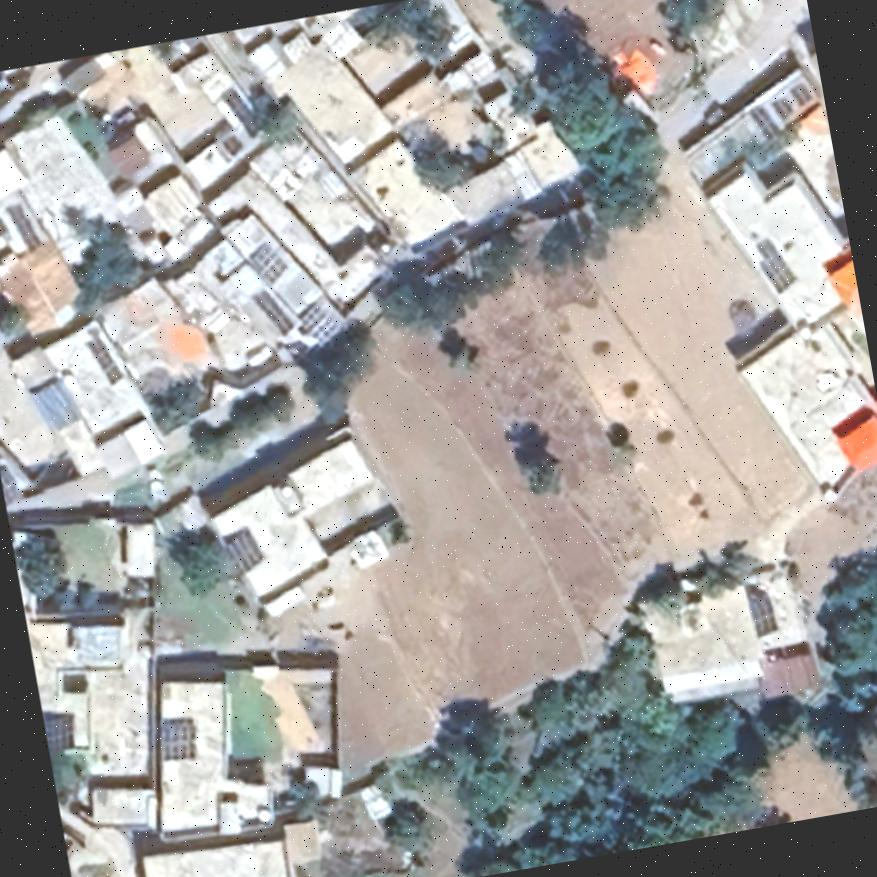Solarpanel: (750, 232, 800, 298), (80, 328, 124, 390), (216, 527, 266, 579), (248, 281, 293, 338), (2, 196, 42, 258), (152, 715, 200, 765), (291, 298, 341, 345), (242, 238, 293, 283), (42, 705, 78, 759), (745, 592, 778, 637), (748, 99, 780, 141), (782, 80, 815, 108), (768, 91, 794, 122)
